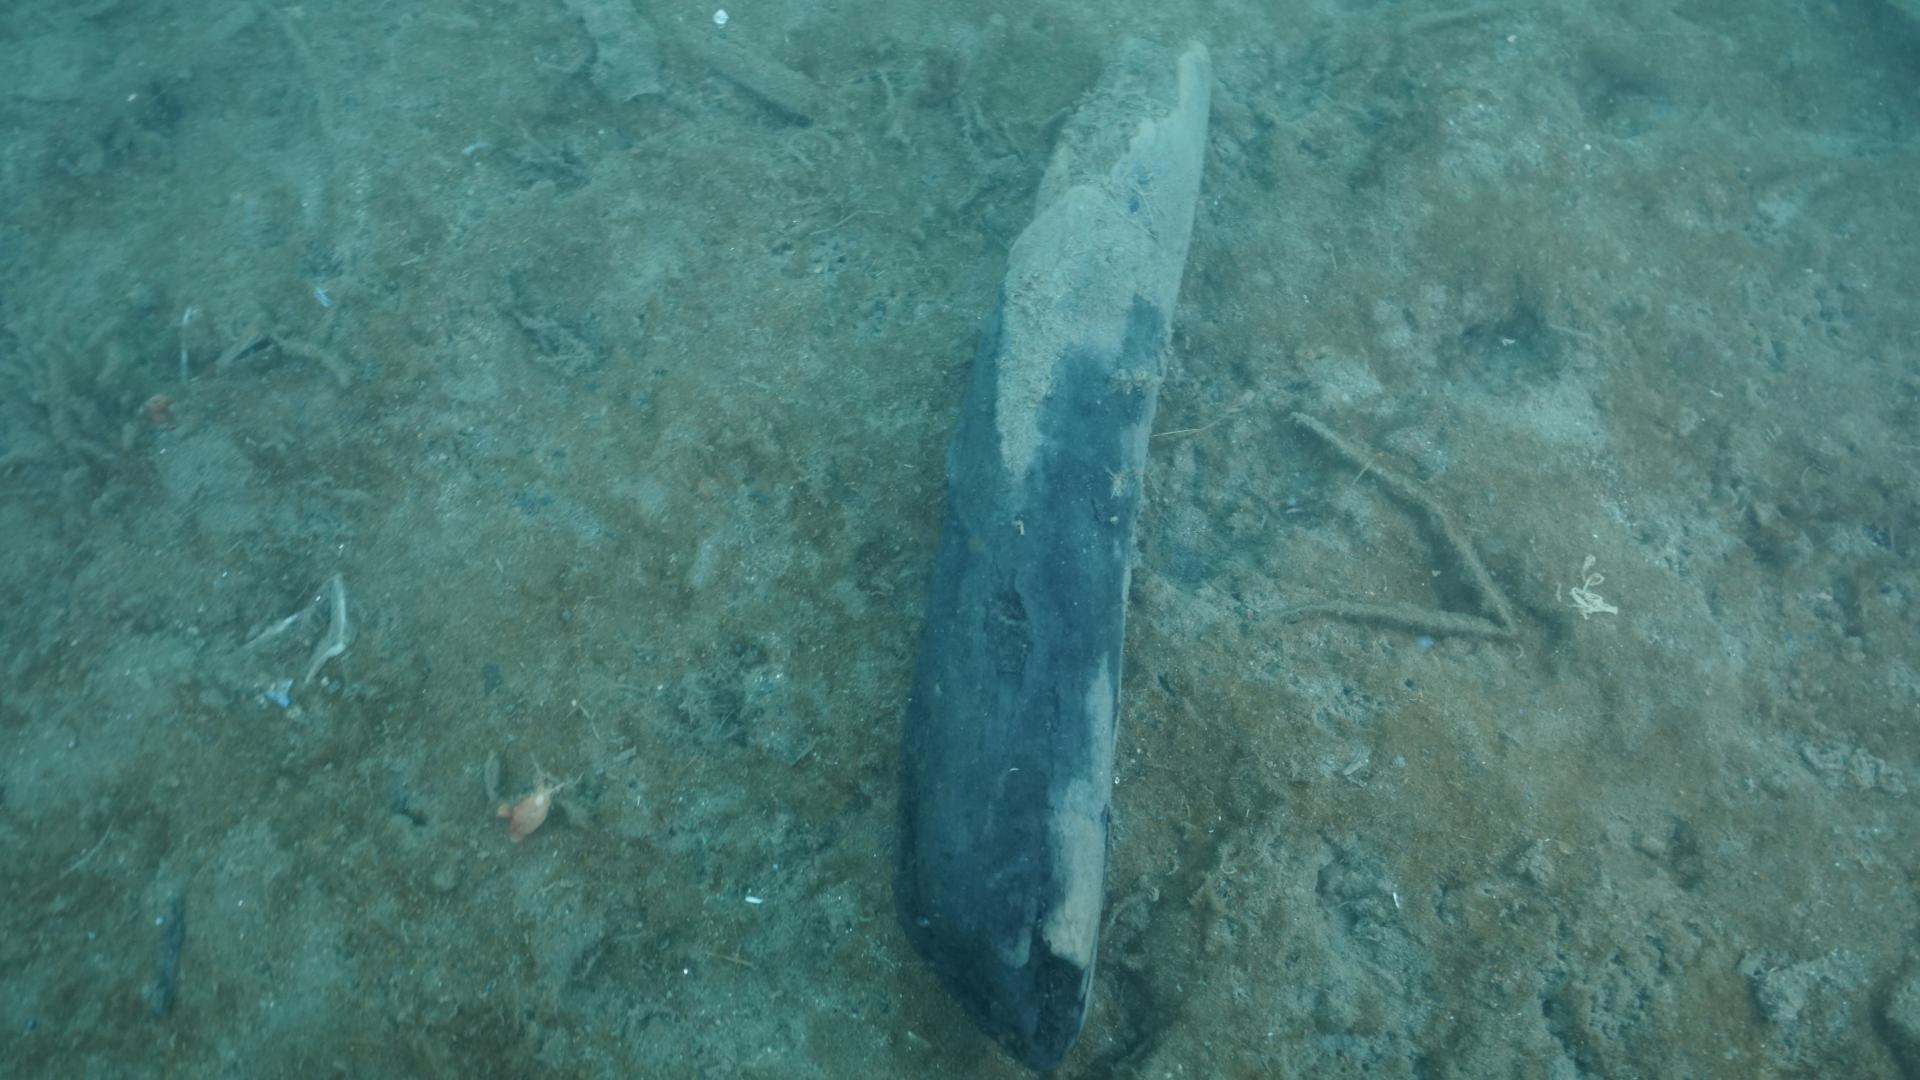wood: (890, 22, 1211, 1080)
